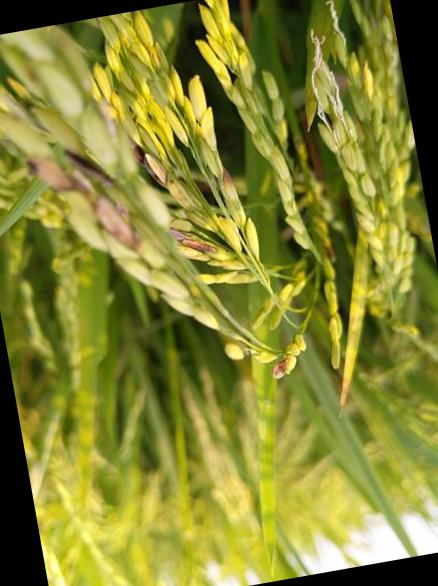Leaf Streak: (340, 235, 372, 409), (383, 0, 397, 42)
Panicle Blight: (27, 139, 140, 253), (130, 139, 168, 183), (169, 229, 217, 260), (221, 169, 243, 209), (271, 350, 298, 377), (324, 228, 334, 279)
